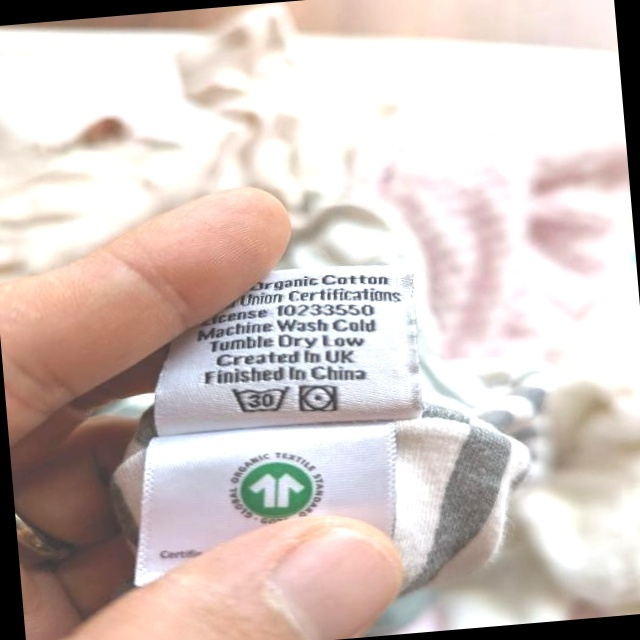30C: (226, 380, 294, 419)
tumble_dry_low: (295, 380, 342, 418)
